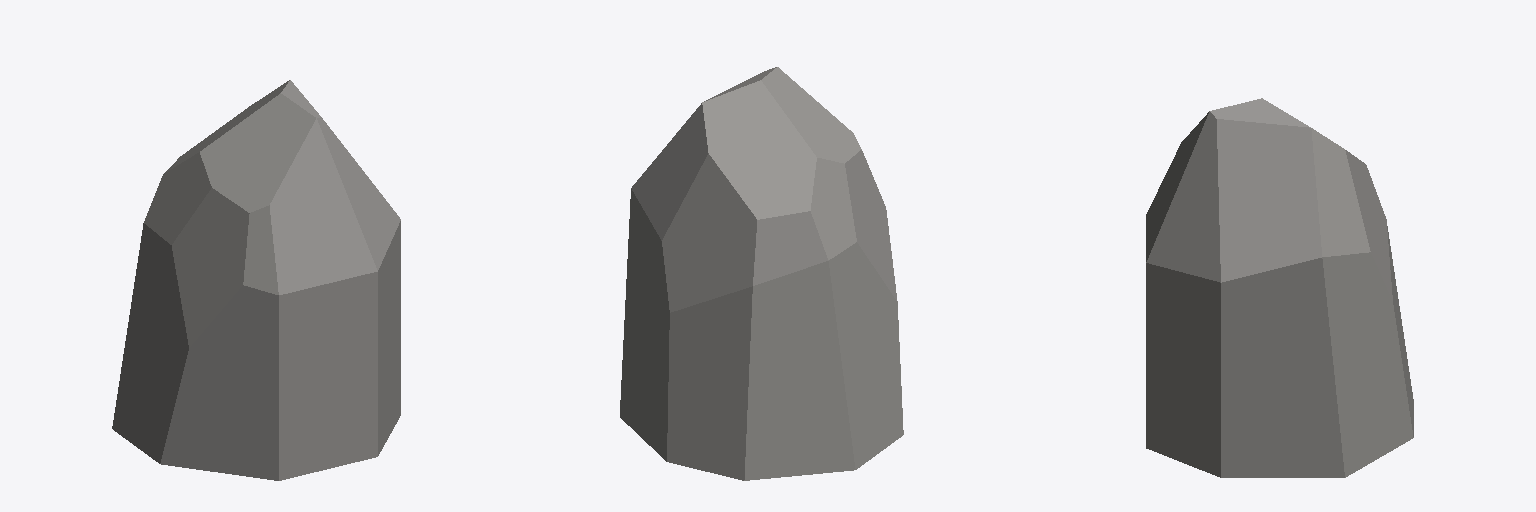
The model's file is Mountain_2.obj.
3 views of the same model, side by side, from view 1: azimuth 30°, elevation 25°; view 2: azimuth 150°, elevation 25°; view 3: azimuth 270°, elevation 25° (orthographic).
Visible parts, largest first — view 1: object1; view 2: object1; view 3: object1.
Part boxes in pixels (x1,y1,x2,y2): object1: (112,80,400,480); object1: (620,67,903,480); object1: (1146,98,1413,477).
Size of the model in its own units: 5 by 6.83 by 5.